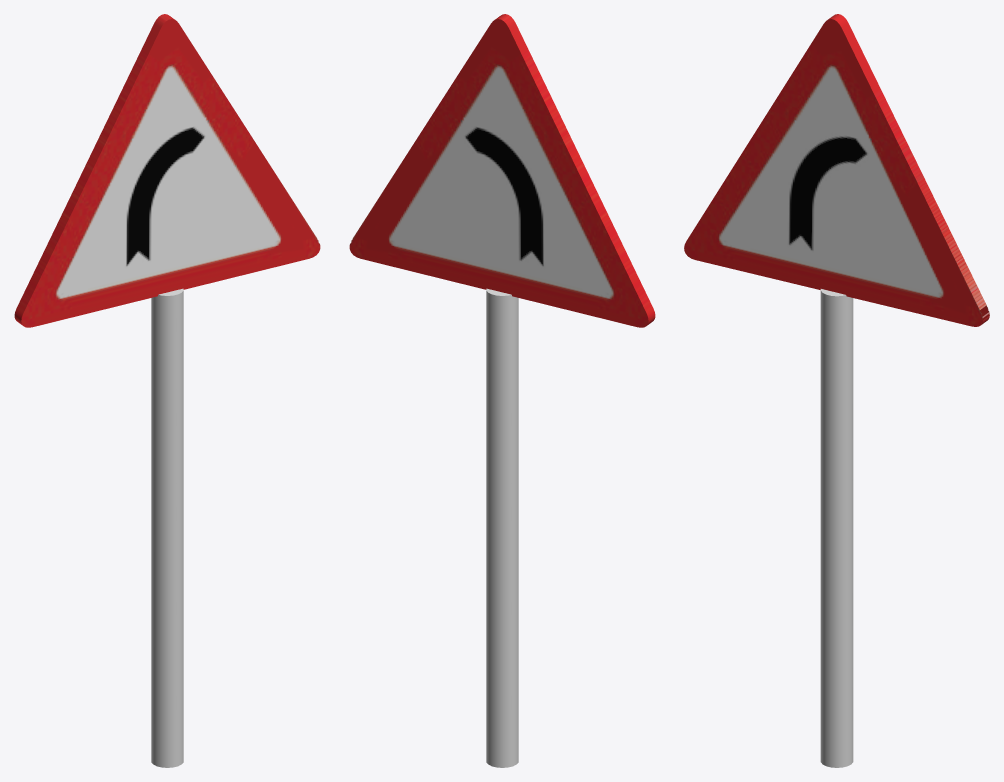
Rendered from Turn_Right_Sign.FBX.
3 renders of one model, left to right at view 1: azimuth 30°, elevation 25°; view 2: azimuth 150°, elevation 25°; view 3: azimuth 330°, elevation 25°, orthographic.
Visible parts, largest first — view 1: NGon001, Cylinder001; view 2: NGon001, Cylinder001; view 3: NGon001, Cylinder001.
Boxes of the visible parts, x1=… form: NGon001: x1=14, y1=14, x2=320, y2=327; Cylinder001: x1=151, y1=288, x2=183, y2=767; NGon001: x1=349, y1=14, x2=655, y2=327; Cylinder001: x1=486, y1=288, x2=518, y2=767; NGon001: x1=684, y1=14, x2=989, y2=326; Cylinder001: x1=820, y1=289, x2=853, y2=767.
Bounding box in the file's own units: 126 × 300 × 11.86.
1 material, 1 textured.
